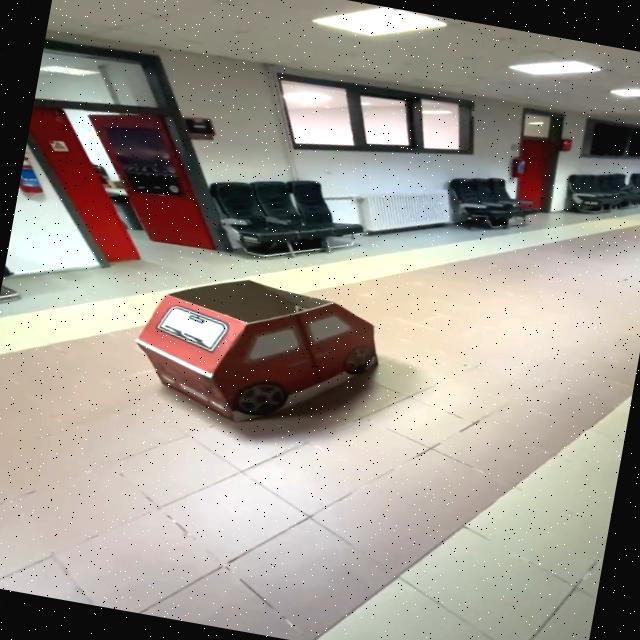red_car: (100, 241, 409, 460)
